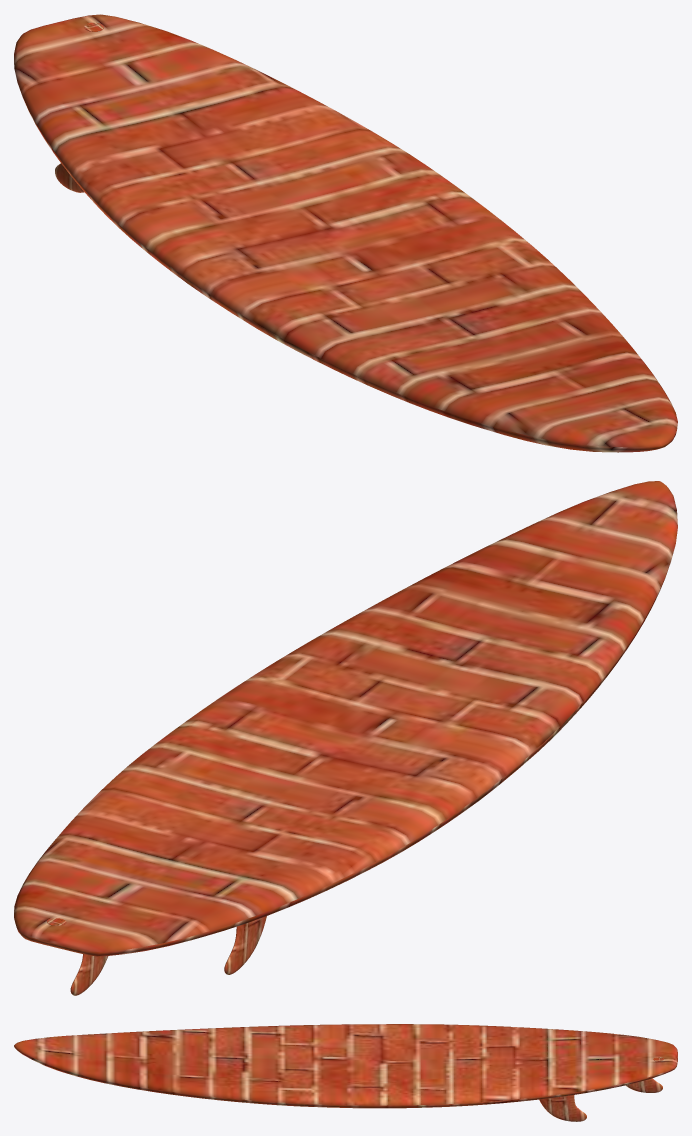
File: Surfboard.fbx
3 renders of one model, top to bottom at view 1: azimuth 30°, elevation 25°; view 2: azimuth 150°, elevation 25°; view 3: azimuth 270°, elevation 25°, orthographic. The views are drawn at different scales.
Visible parts, largest first — view 1: surfboard; view 2: surfboard; view 3: surfboard.
Part boxes in pixels (x1,y1,x2,y2): surfboard: (14, 14, 677, 452); surfboard: (14, 481, 677, 995); surfboard: (14, 1024, 677, 1121).
Bounding box in the file's own units: 6389 × 2041 × 22675.
Materials: 1 (1 with a texture image).
